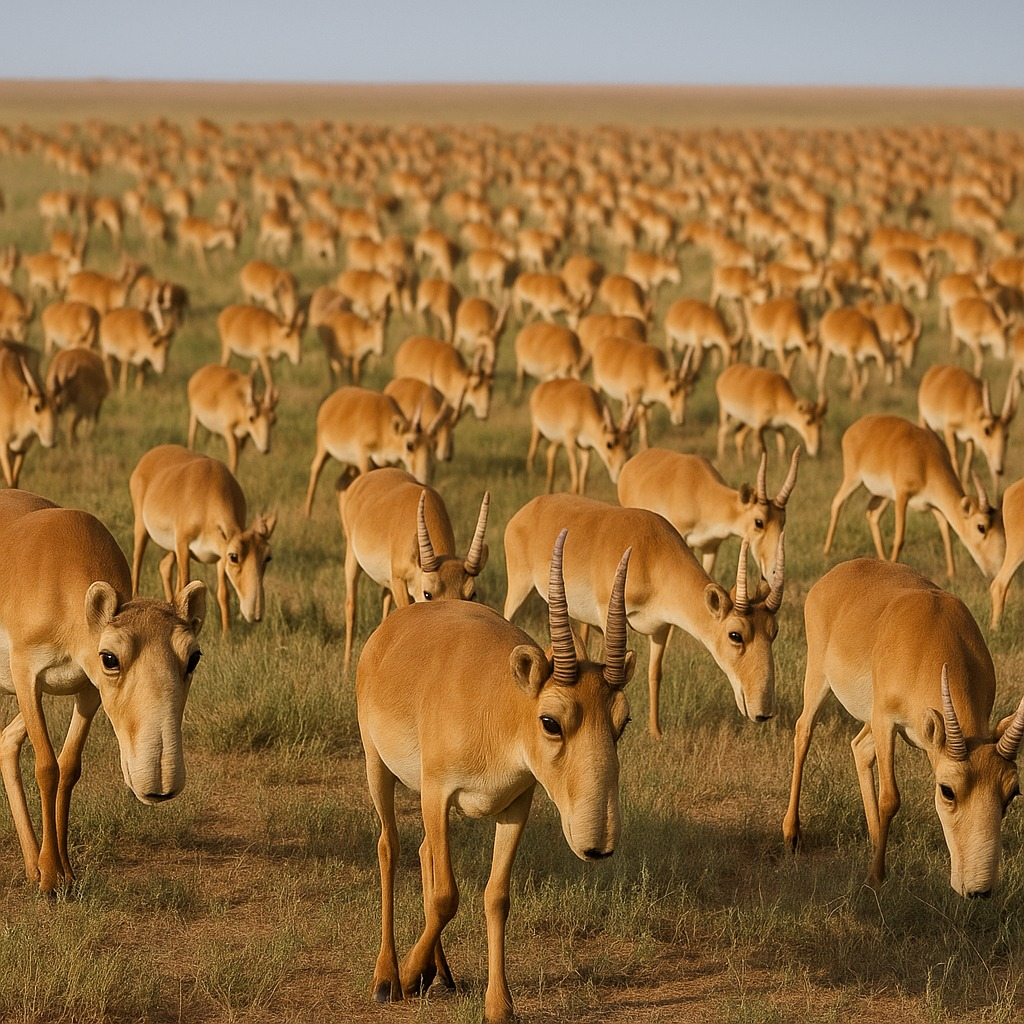saiga: (341, 519, 644, 1024), (810, 500, 1019, 941), (4, 477, 214, 899)
